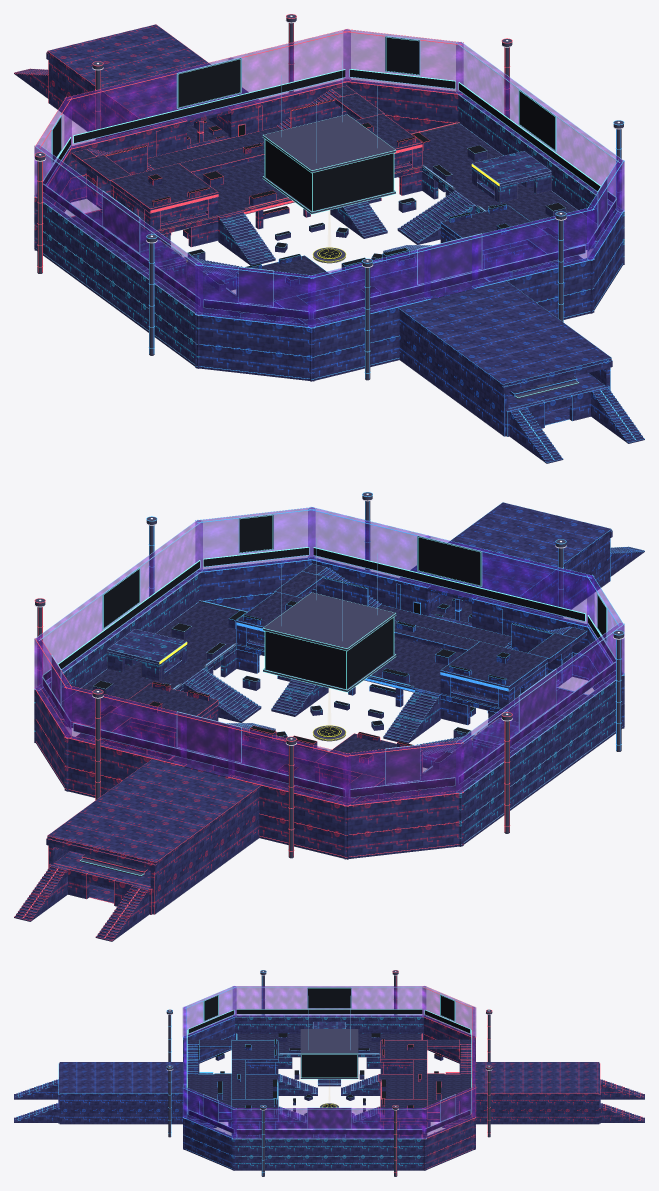
File: kb_arena_v35.glb
3 renders of one model, top to bottom at view 1: azimuth 30°, elevation 25°; view 2: azimuth 150°, elevation 25°; view 3: azimuth 270°, elevation 25°, orthographic. The views are drawn at different scales.
Parts seen in each view (by area): view 1: skin; view 2: skin; view 3: skin.
Boxes of the visible parts, x1,y1,x2,y2 form: skin: (14,14,644,463); skin: (14,492,644,941); skin: (14,970,644,1176).
Bounding box in the file's own units: 140 × 49.53 × 271.
24 materials, 9 textured.
